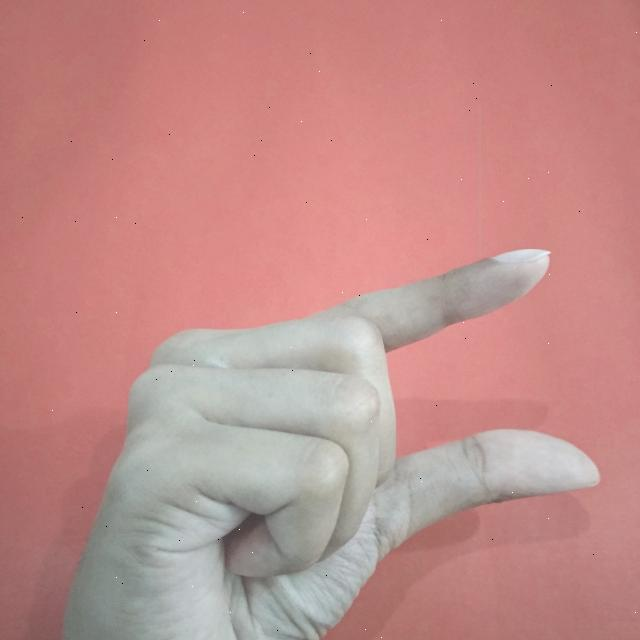G: (61, 244, 605, 640)
